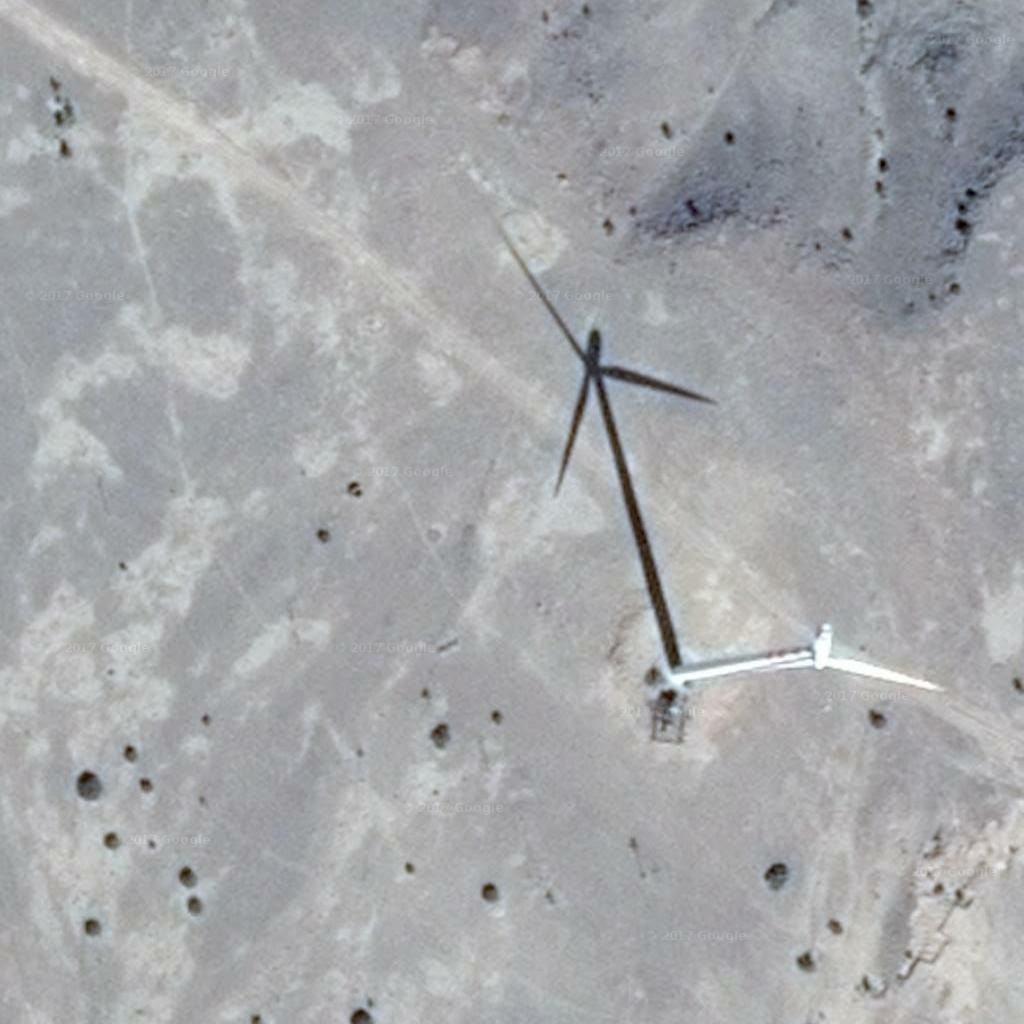Windmill: (494, 225, 692, 694)
